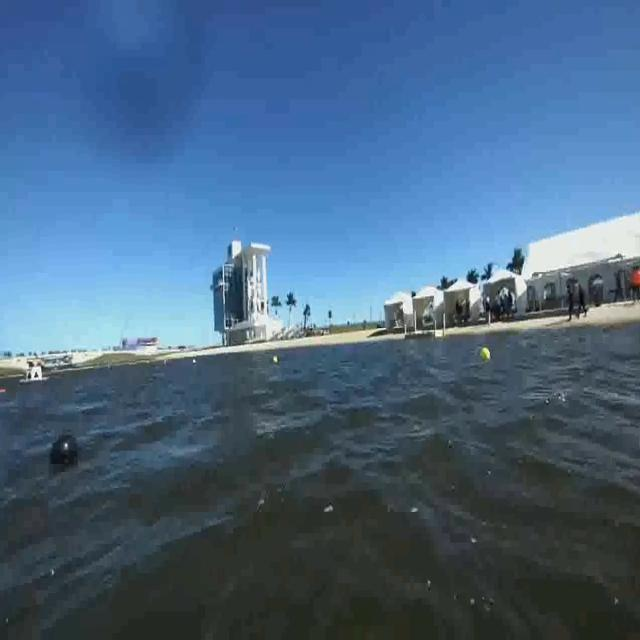black-buoy: (50, 435, 82, 472)
